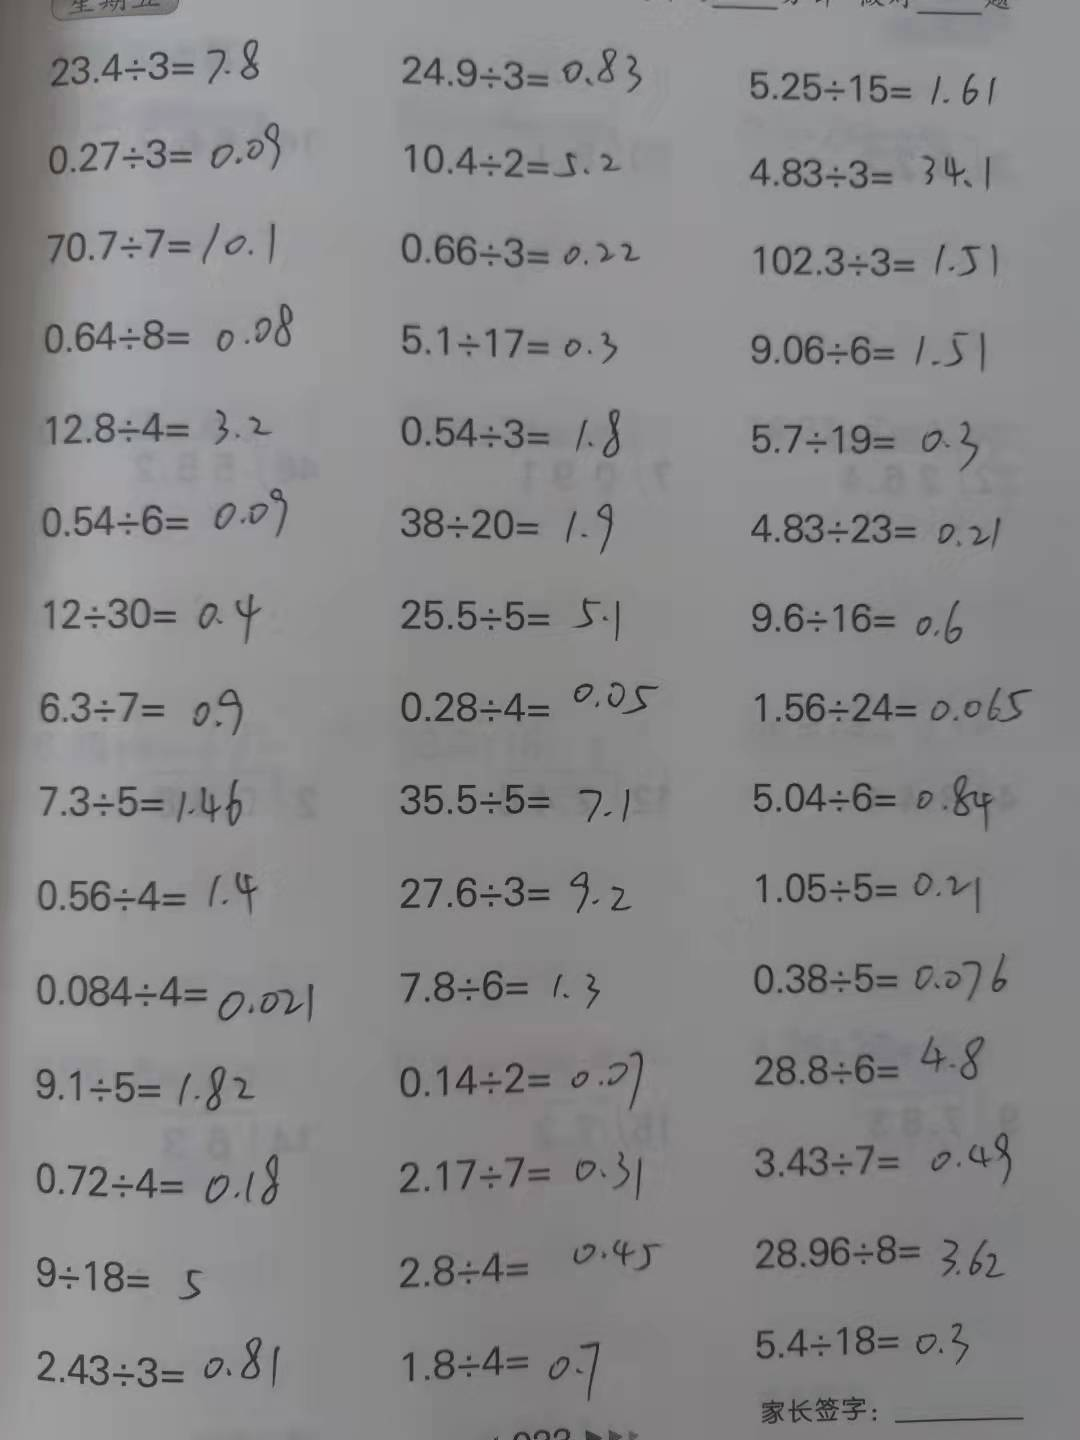equation: (25, 962, 324, 1037), (735, 940, 1020, 1014), (24, 1142, 292, 1219), (744, 1119, 1020, 1194), (732, 1228, 1028, 1297), (383, 1137, 669, 1205), (743, 669, 1043, 734), (386, 1047, 668, 1113), (43, 109, 288, 185), (741, 228, 1010, 297), (743, 498, 1014, 565), (383, 670, 672, 732), (36, 293, 297, 361), (34, 482, 295, 550), (17, 1331, 292, 1396), (386, 308, 646, 376), (740, 413, 999, 481), (29, 579, 269, 653), (388, 769, 651, 836), (382, 214, 652, 279), (391, 494, 636, 565), (388, 401, 632, 469), (744, 771, 1005, 835), (741, 1307, 996, 1372), (36, 206, 282, 273), (389, 1229, 681, 1285), (397, 34, 651, 98), (752, 1033, 1005, 1096), (27, 397, 279, 460), (393, 1336, 618, 1406), (741, 316, 990, 379), (25, 1054, 261, 1120), (386, 861, 649, 920), (29, 863, 269, 927), (737, 63, 1007, 120), (391, 594, 641, 655), (741, 141, 999, 200), (744, 587, 970, 654), (388, 952, 611, 1019), (33, 678, 260, 744), (746, 861, 989, 918), (26, 1240, 205, 1315), (32, 774, 259, 832), (41, 33, 275, 88), (390, 134, 631, 186)
